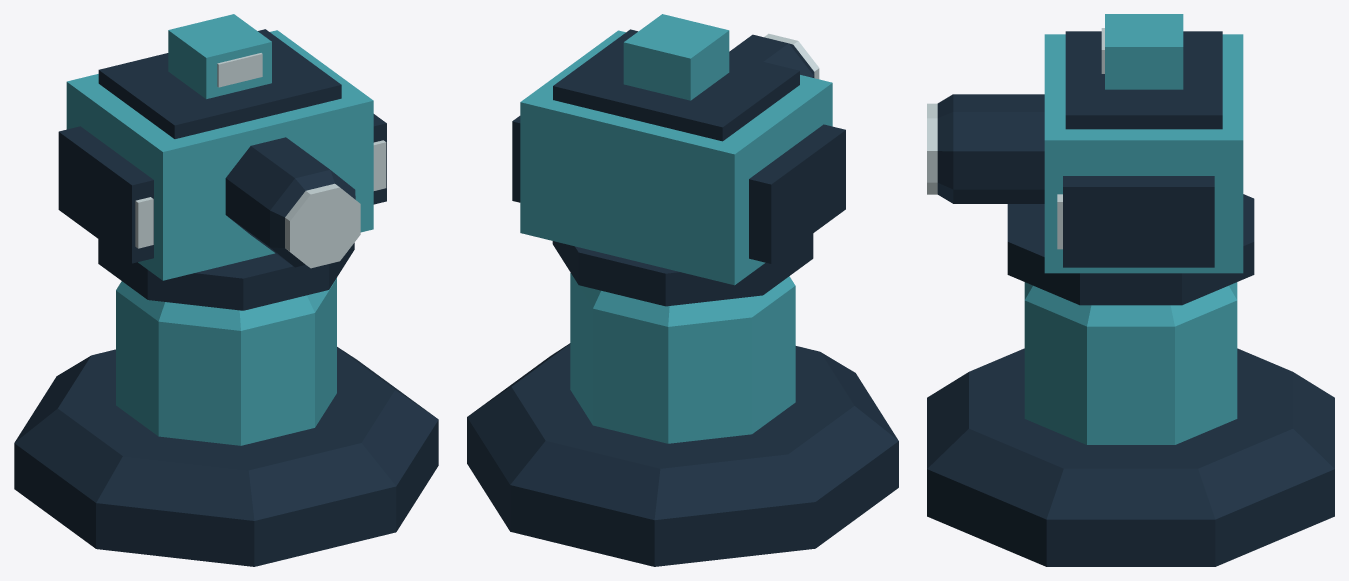
The model's file is turret_basic.glb.
The picture shows the model from 3 angles, left to right: view 1: azimuth 30°, elevation 25°; view 2: azimuth 150°, elevation 25°; view 3: azimuth 270°, elevation 25°; orthographic projection. The views are drawn at different scales.
Parts seen in each view (by area): view 1: turret_basic; view 2: turret_basic; view 3: turret_basic.
Part boxes in pixels (left/top/right/bottom): turret_basic: left=14, top=14, right=438, bottom=566; turret_basic: left=467, top=14, right=898, bottom=566; turret_basic: left=927, top=14, right=1334, bottom=566.
Bounding box in the file's own units: 0.78 × 0.95 × 0.78.
